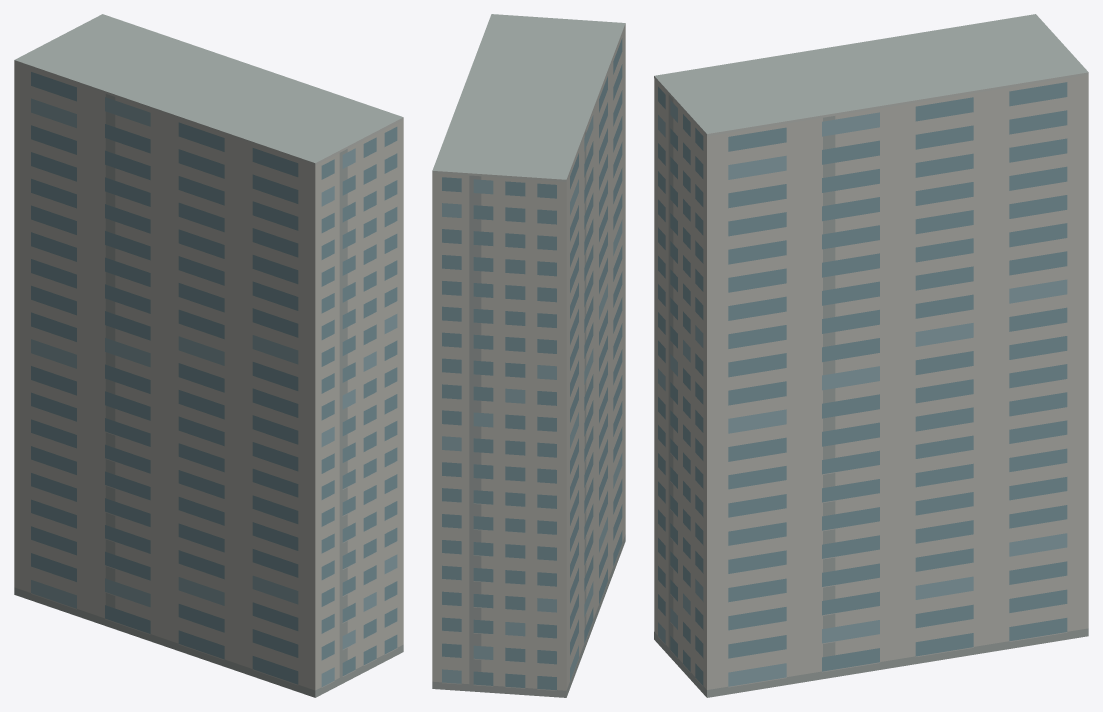
Rendered from residential-c596d101-b5cd-49f0-8eb1-830b4fbdbfc5.glb.
The picture shows the model from 3 angles, left to right: view 1: azimuth 30°, elevation 25°; view 2: azimuth 150°, elevation 25°; view 3: azimuth 270°, elevation 25°; orthographic projection. The views are drawn at different scales.
Parts seen in each view (by area): view 1: residential-c596d101-b5cd-49f0-8eb1-830b4fbdbfc5.tmp; view 2: residential-c596d101-b5cd-49f0-8eb1-830b4fbdbfc5.tmp; view 3: residential-c596d101-b5cd-49f0-8eb1-830b4fbdbfc5.tmp.
Part boxes in pixels (bbox=[...]): residential-c596d101-b5cd-49f0-8eb1-830b4fbdbfc5.tmp: bbox=[14, 14, 403, 697]; residential-c596d101-b5cd-49f0-8eb1-830b4fbdbfc5.tmp: bbox=[432, 14, 625, 697]; residential-c596d101-b5cd-49f0-8eb1-830b4fbdbfc5.tmp: bbox=[654, 14, 1088, 697].
Size of the model in its own units: 26.05 by 57 by 39.83.
